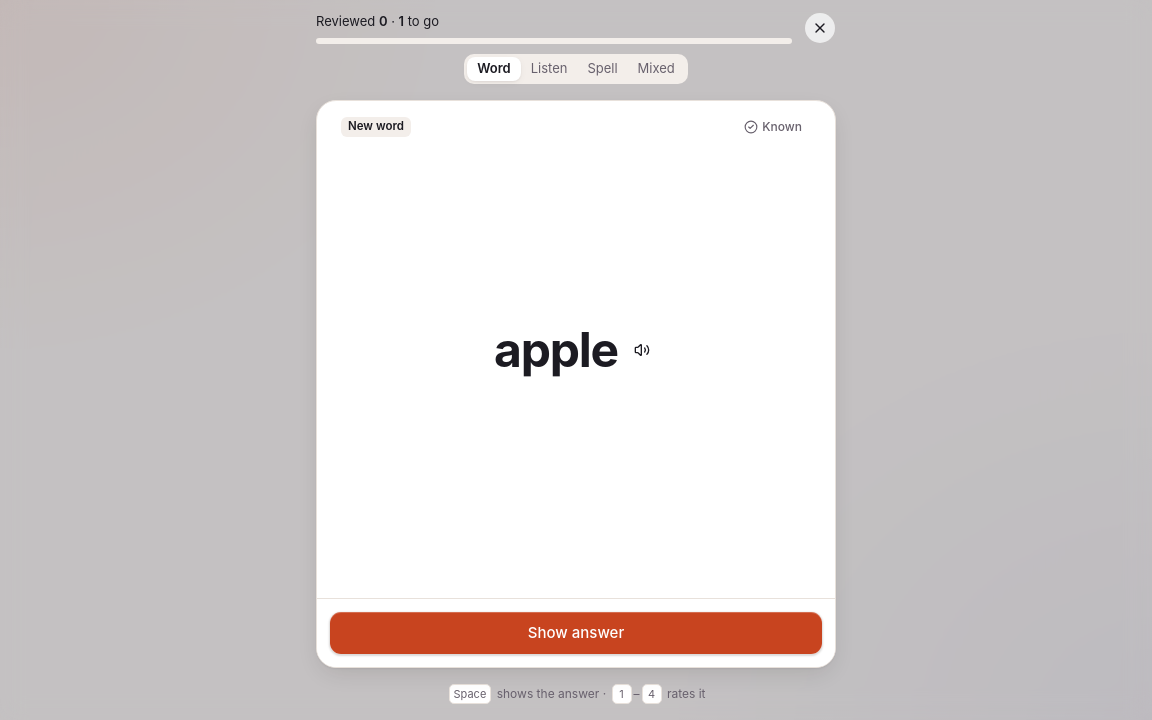
ReviewDeck › asks before more new words take the place of ones marked known (task 123)
Expected: the heading "apple" is shown, [494,326,618,374]
Click the button with test id "review-known" at (773, 127), box [735,115,811,139]
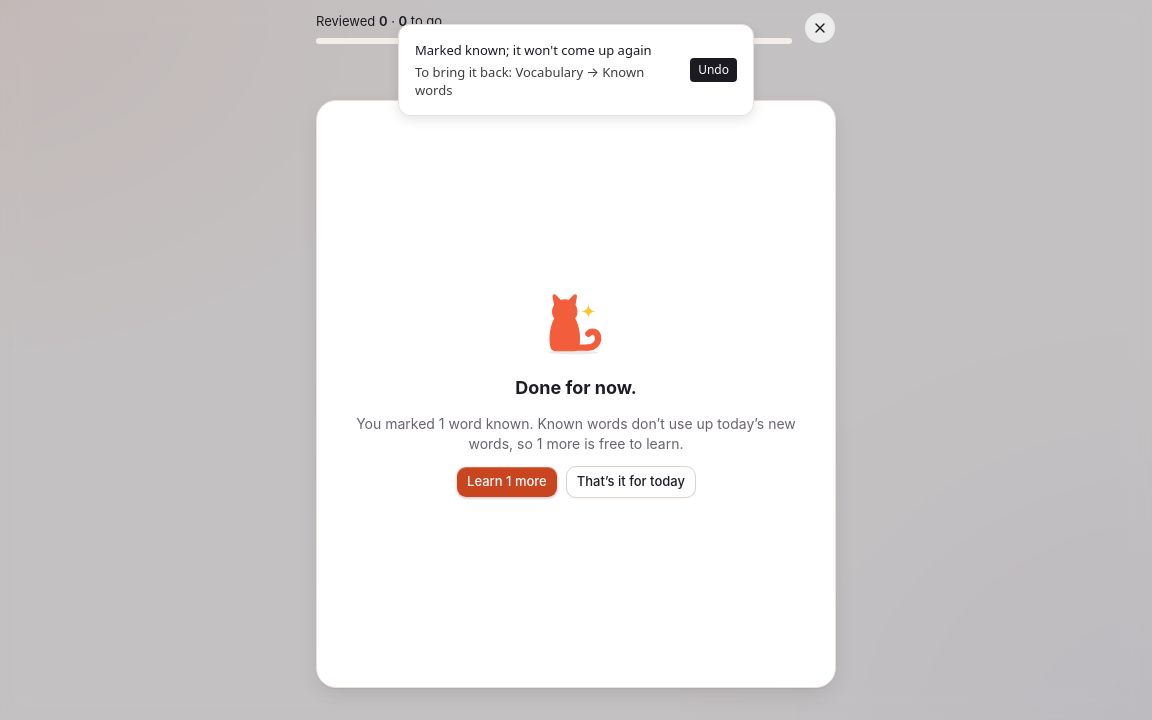
Expected: the element with test id "review-done" shows "Done for now.", [515,377,637,398]
Expected: the text with test id "review-refill" shows "You marked 1 word known. Known words don’t use up today’s new words, so 1 more is free to learn.", [356,415,796,452]
Expected: the button "That’s it for today" is shown, [566,466,696,498]
Click the button "Learn 1 more" at (507, 482), box [456,466,558,498]
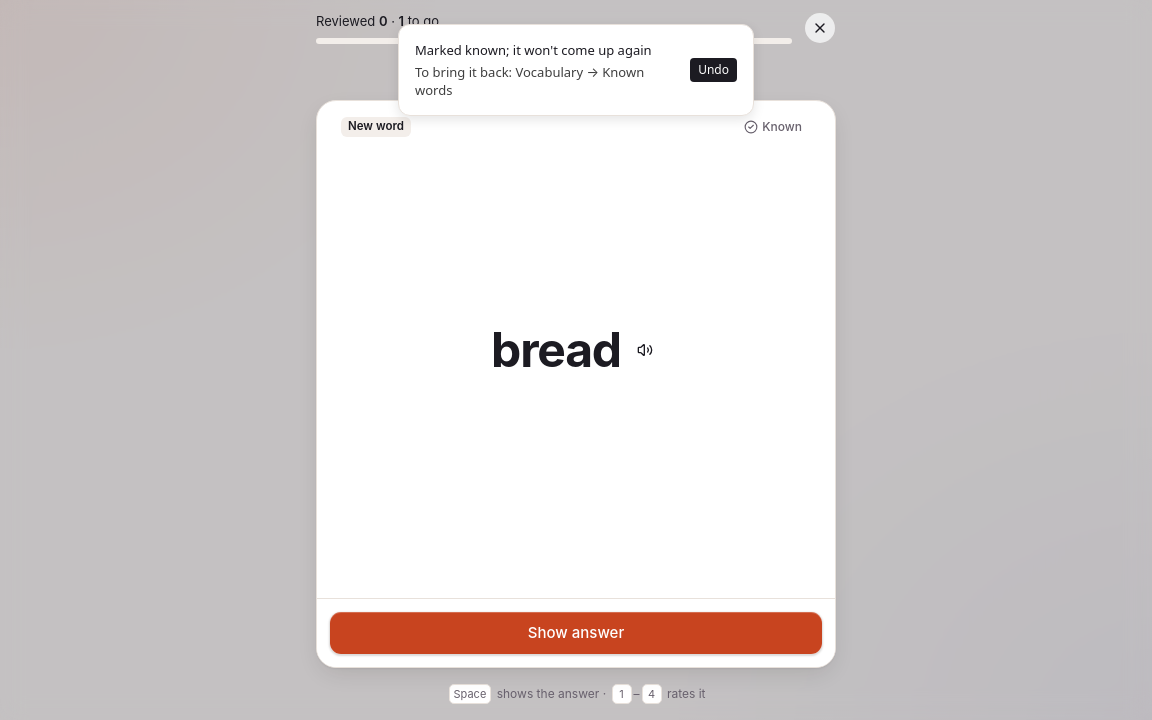
Expected: the heading "bread" is shown, [491,326,621,374]
Expected: the element with test id "review-done" is gone
